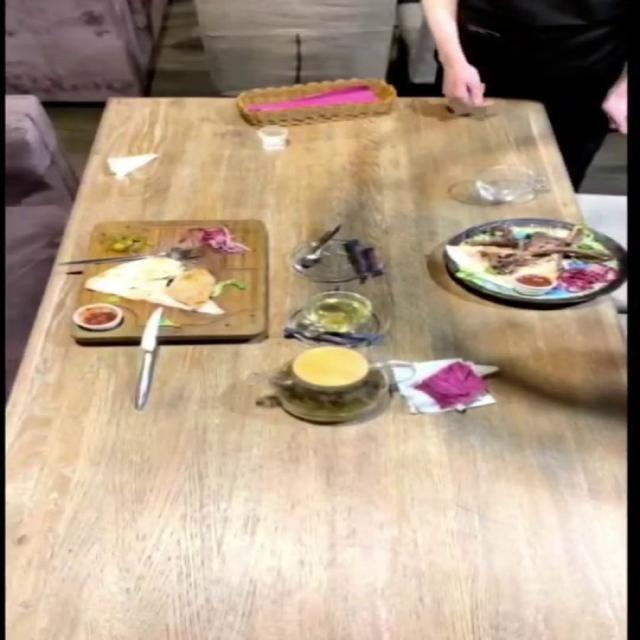meat: (68, 218, 277, 352), (454, 222, 602, 321)
tea: (242, 333, 420, 449)
